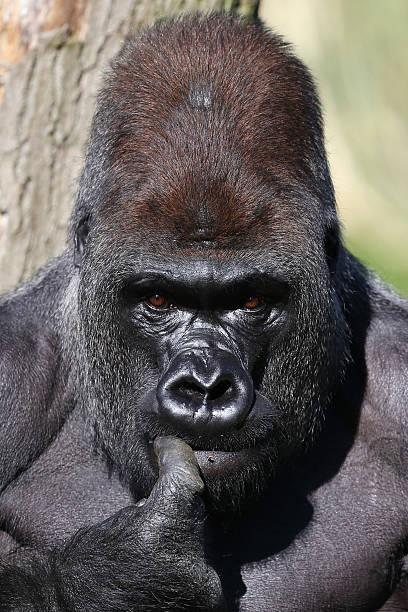gorille_Autres: (10, 7, 408, 612)
